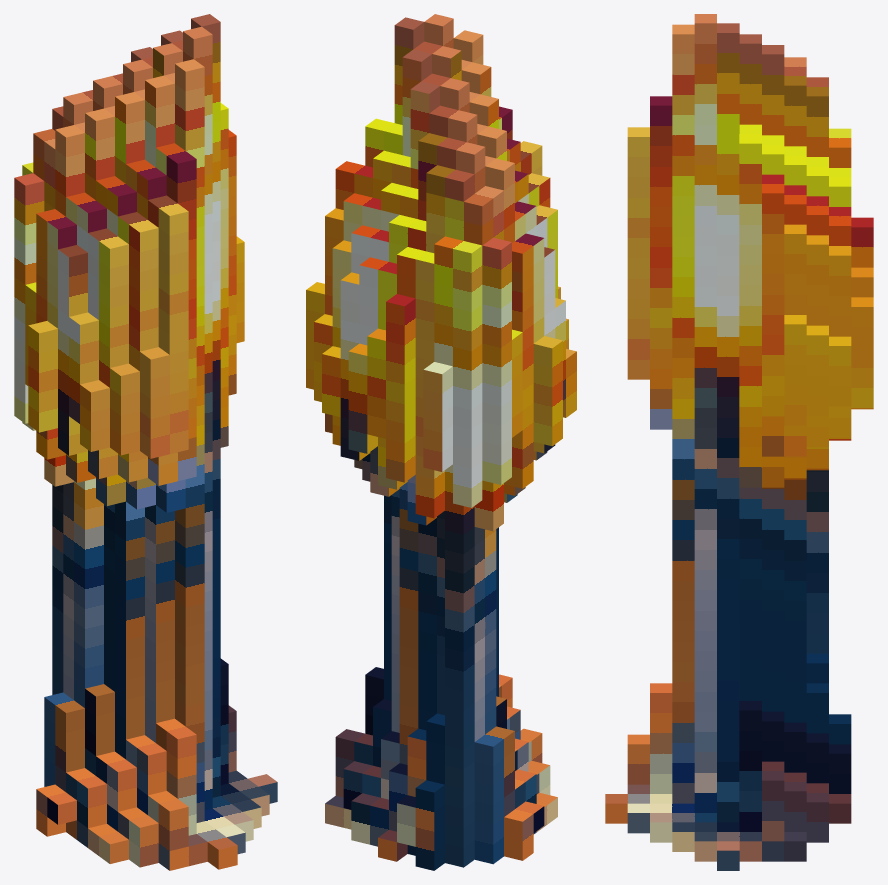
Rendered from brass-lantern.glb.
3 views of the same model, side by side, from view 1: azimuth 30°, elevation 25°; view 2: azimuth 150°, elevation 25°; view 3: azimuth 270°, elevation 25° (orthographic). The views are drawn at different scales.
Visible parts, largest first — view 1: brass-lantern; view 2: brass-lantern; view 3: brass-lantern.
Boxes of the visible parts, x1,y1,x2,y2 form: brass-lantern: (14,14,277,870); brass-lantern: (306,14,576,870); brass-lantern: (605,14,873,870).
Bounding box in the file's own units: 1 × 3.33 × 1.
1 material, 1 textured.
